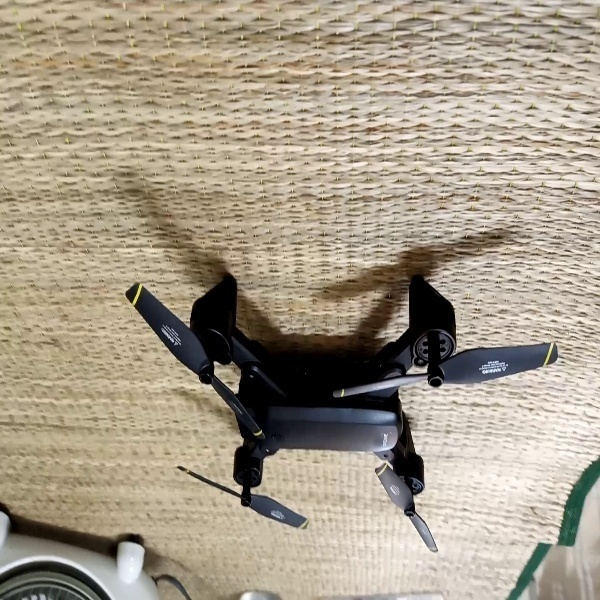drone: (121, 259, 561, 556)
